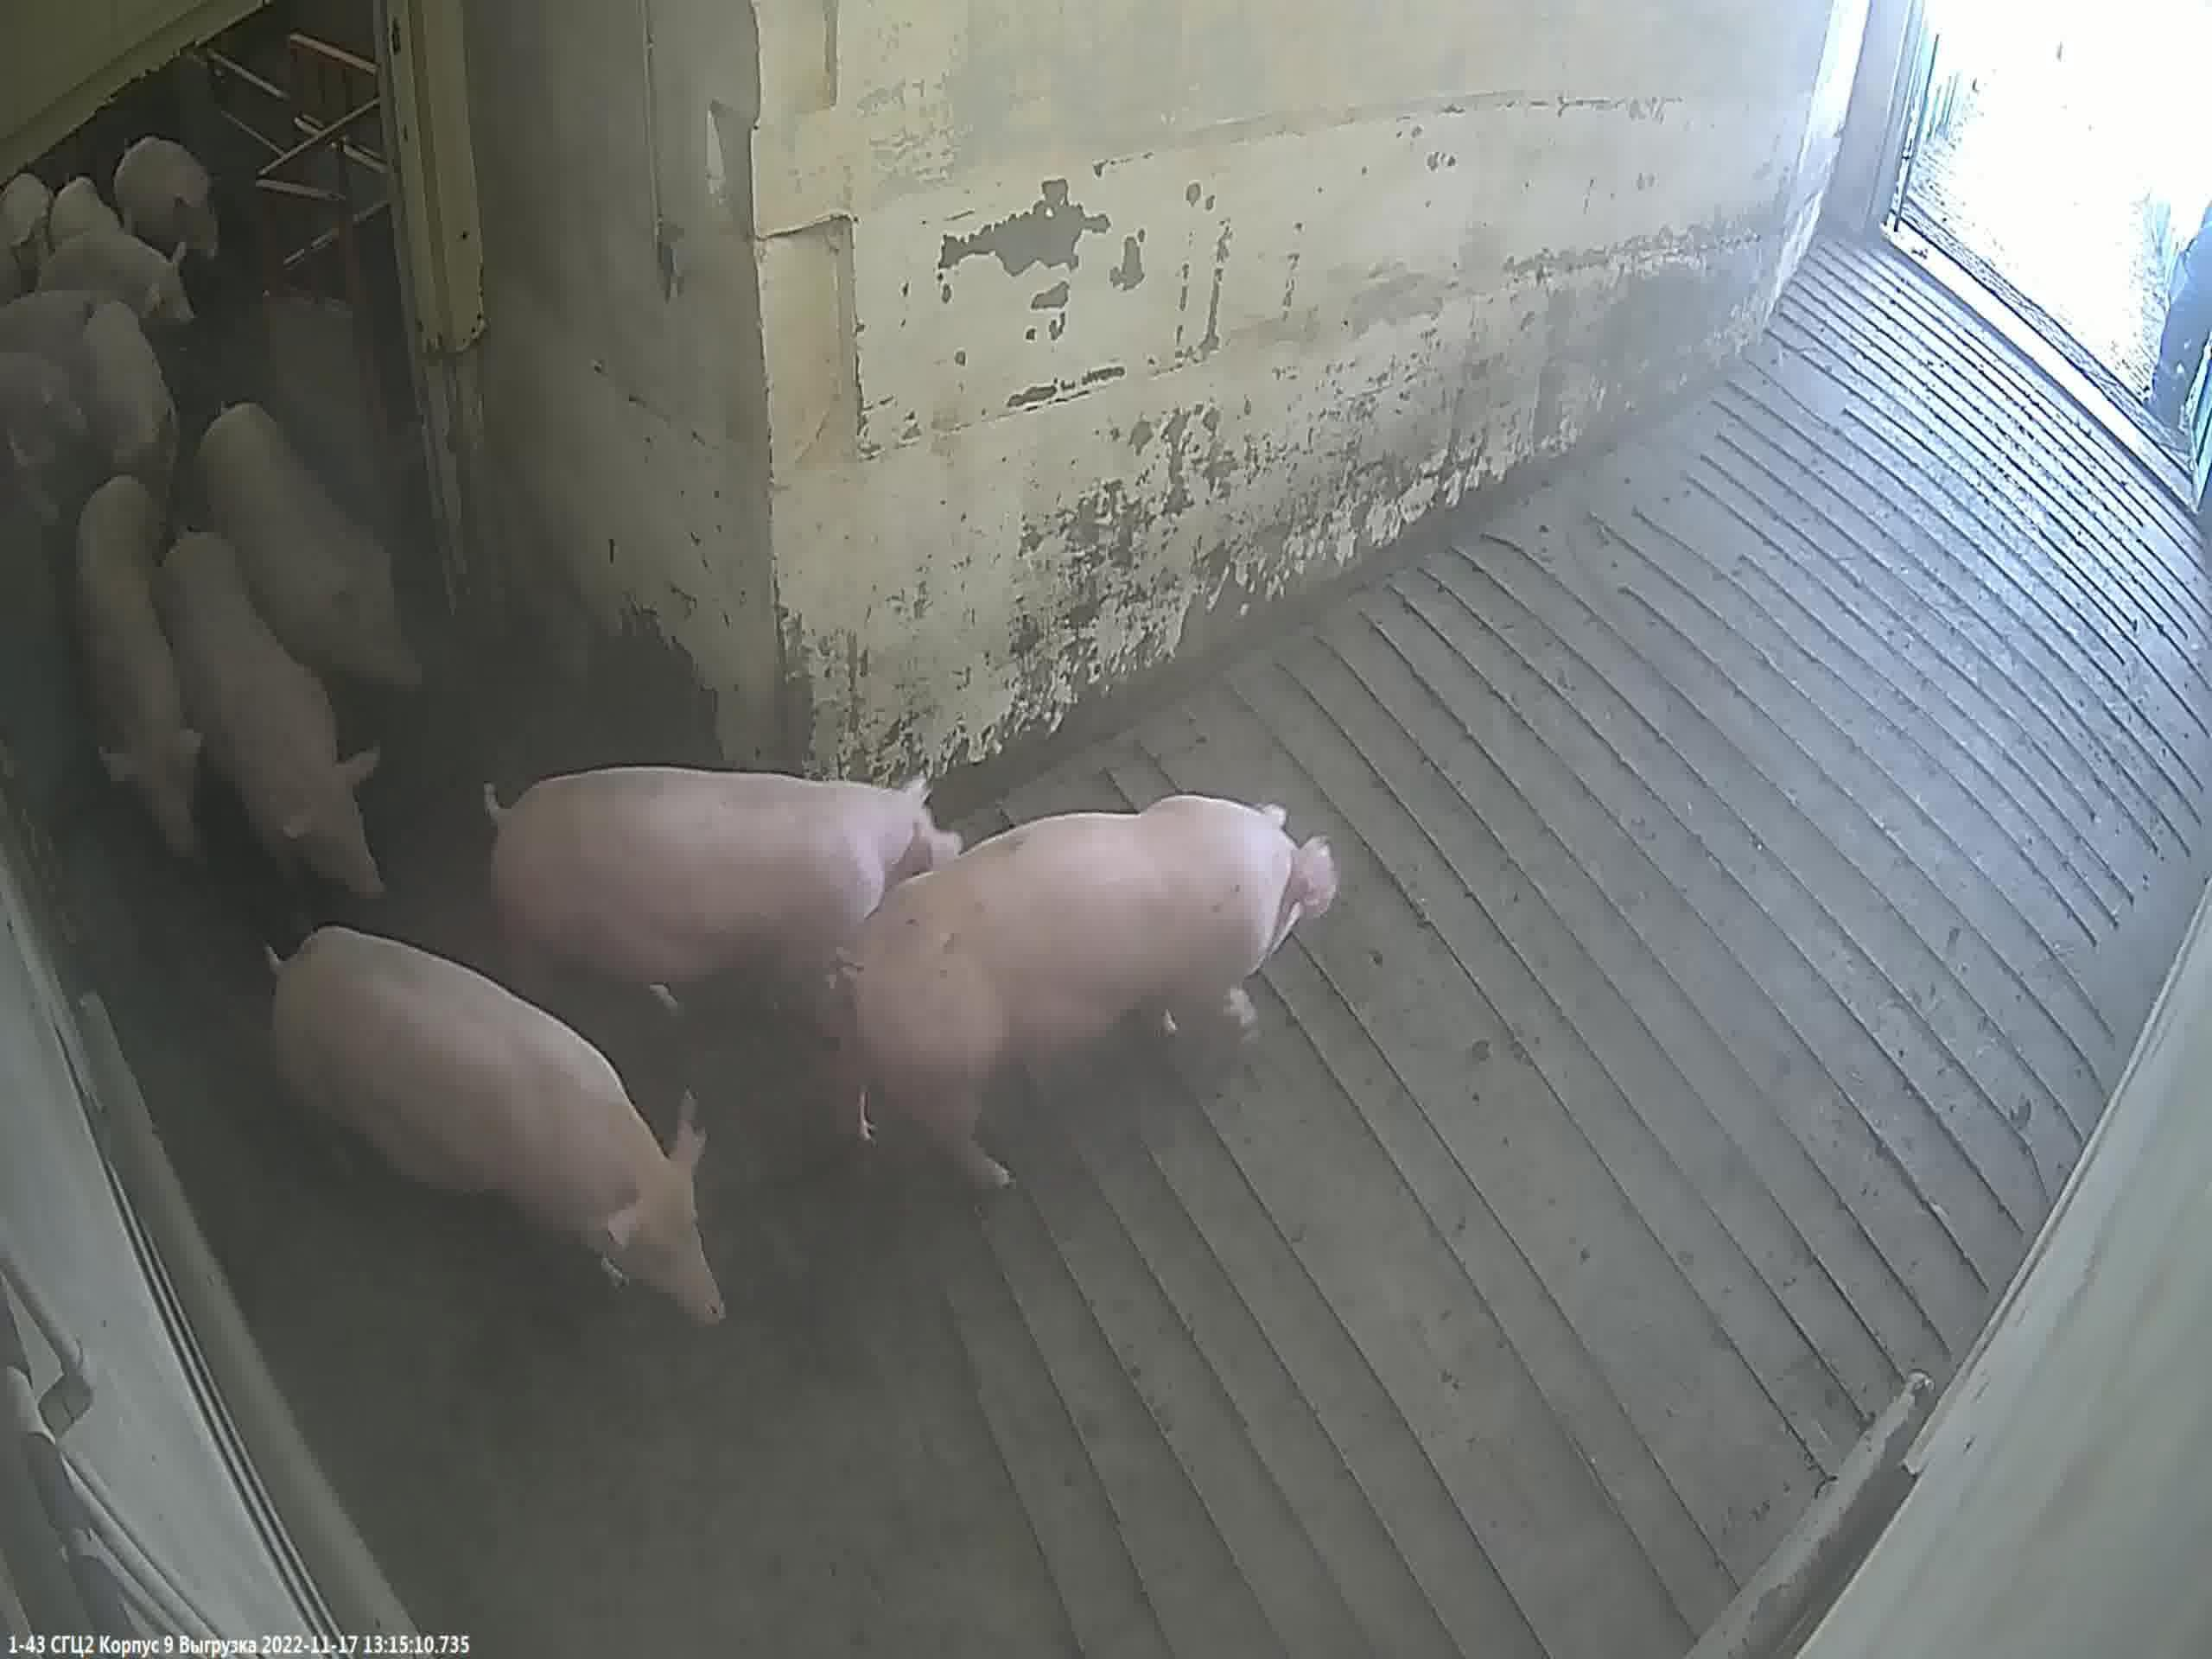Pigs: (850, 799, 1348, 1185), (266, 929, 726, 1331), (489, 767, 951, 1079), (164, 531, 387, 902), (198, 404, 426, 702), (73, 480, 204, 857), (89, 309, 173, 484), (113, 142, 219, 277), (43, 243, 184, 332), (49, 177, 118, 251), (7, 177, 41, 239)
